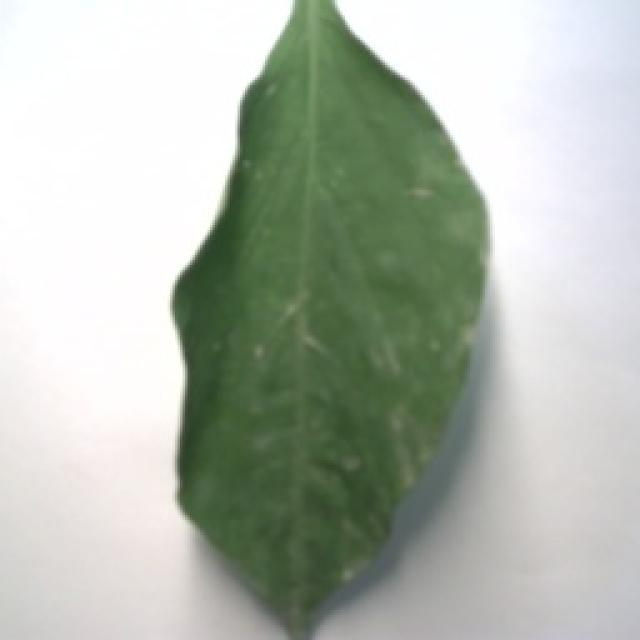Leaf: (163, 0, 487, 629)
